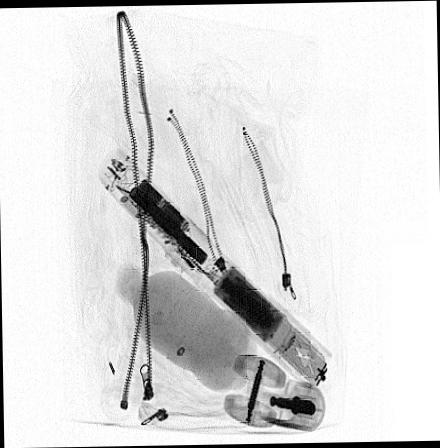Baton: (97, 146, 334, 392)
